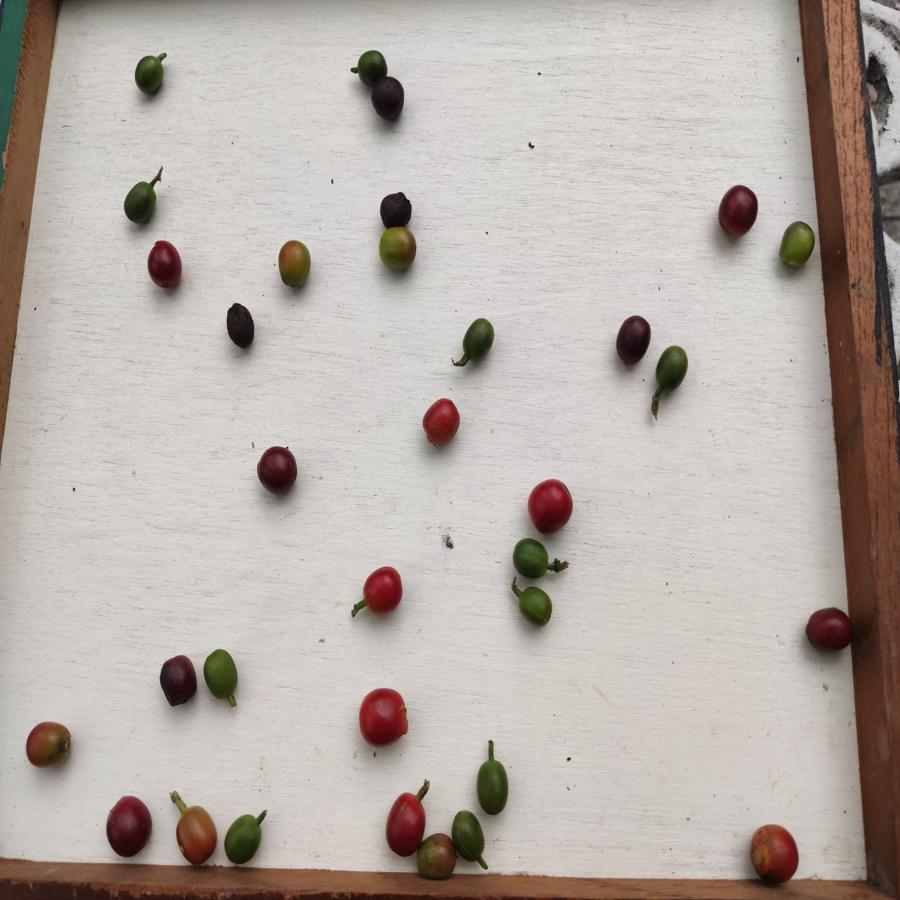Inmaduro: (203, 646, 241, 706), (223, 809, 263, 865), (456, 316, 499, 368), (778, 218, 817, 274), (475, 758, 510, 816), (654, 342, 692, 395), (451, 810, 488, 861), (515, 584, 555, 629), (133, 53, 171, 100), (122, 181, 158, 228), (511, 536, 549, 579), (354, 49, 389, 82)
Maduro: (354, 684, 413, 747), (753, 822, 801, 884), (525, 476, 574, 536), (384, 791, 426, 858), (360, 564, 407, 616), (421, 396, 462, 448)
Pinton: (20, 720, 77, 770), (173, 806, 217, 864), (276, 237, 318, 293), (376, 228, 419, 272), (420, 832, 456, 876)
Sobremaduro: (101, 794, 156, 857), (154, 650, 200, 708), (805, 605, 854, 654), (717, 183, 760, 237), (257, 444, 301, 496), (614, 312, 653, 364), (221, 300, 259, 351), (148, 239, 183, 293), (369, 78, 404, 123), (378, 189, 414, 228)
